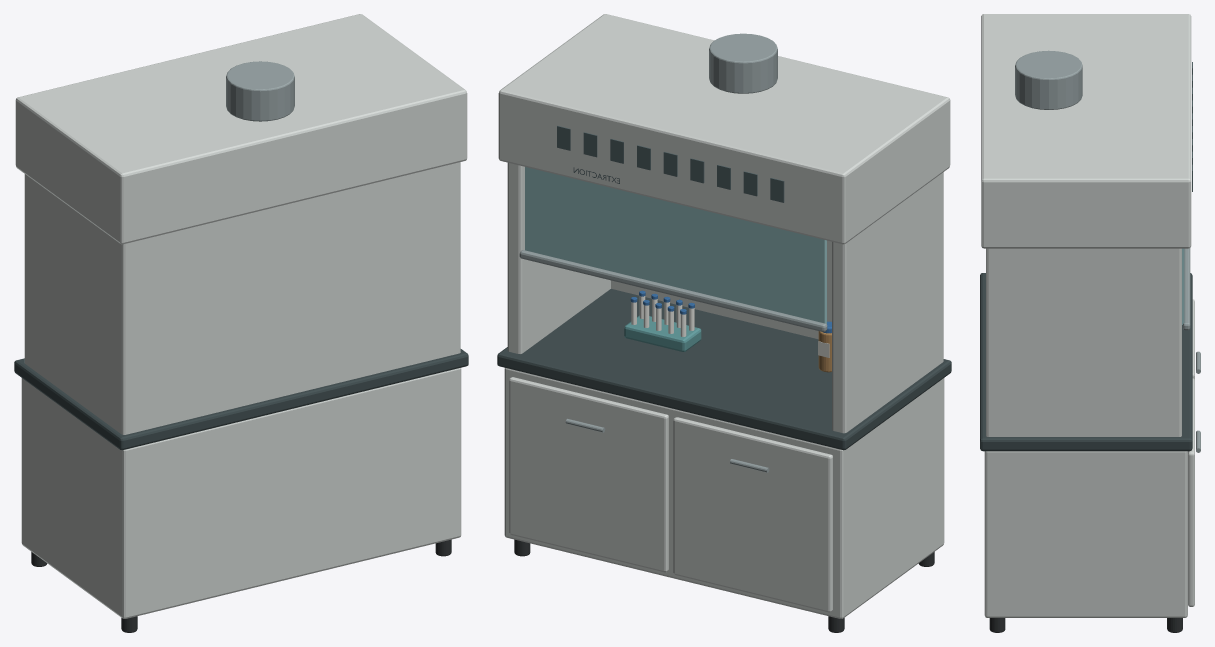
File: FumeHood.fbx
The picture shows the model from 3 angles, left to right: view 1: azimuth 30°, elevation 25°; view 2: azimuth 150°, elevation 25°; view 3: azimuth 270°, elevation 25°; orthographic projection.
Parts seen in each view (by area): view 1: FumeHood; view 2: FumeHood; view 3: FumeHood.
Boxes of the visible parts, x1,y1,x2,y2 form: FumeHood: (14,14,468,632); FumeHood: (497,14,951,632); FumeHood: (980,14,1200,632).
Size of the model in its own units: 170 by 232 by 94.6.
